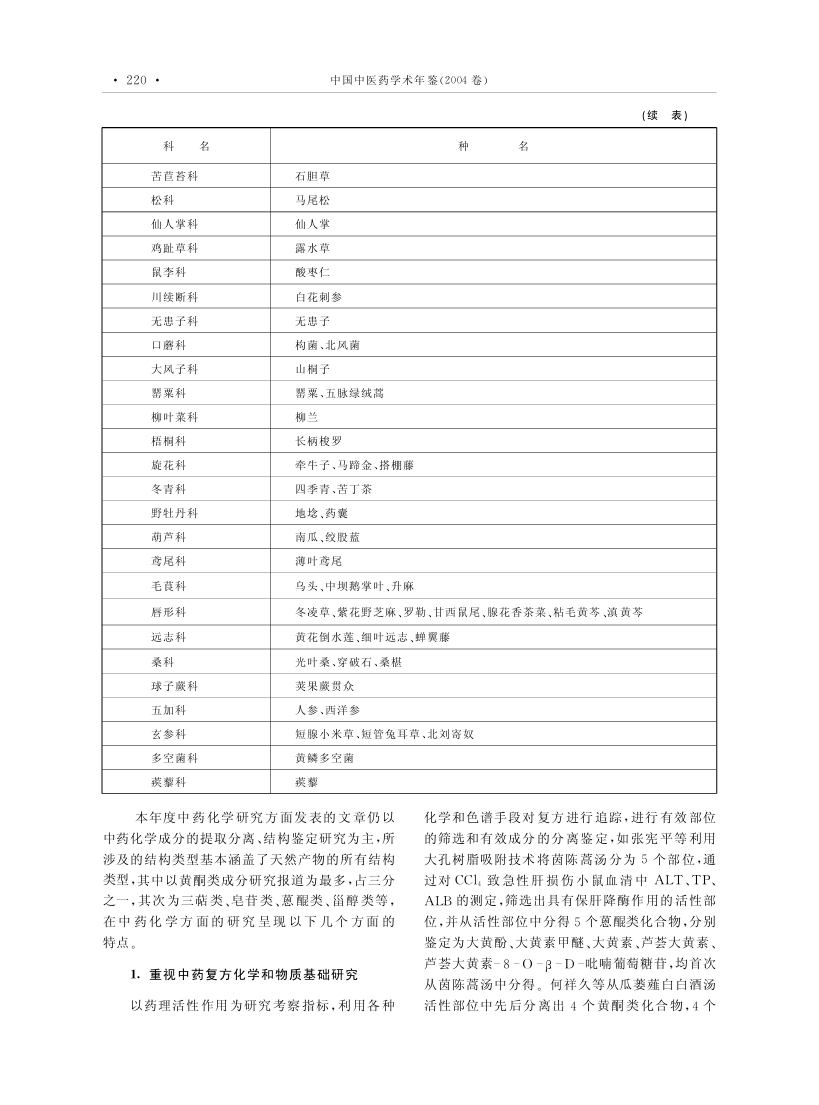table: (101, 127, 717, 793)
